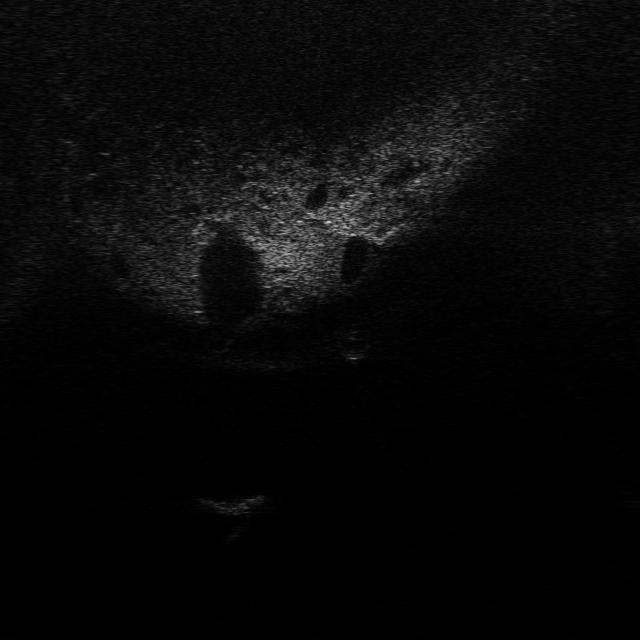ball: (333, 329, 373, 362)
cube: (197, 492, 266, 518)
